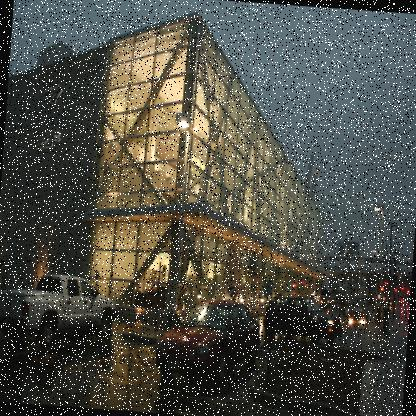Car: (154, 292, 268, 398), (265, 297, 344, 346), (348, 311, 366, 330)
